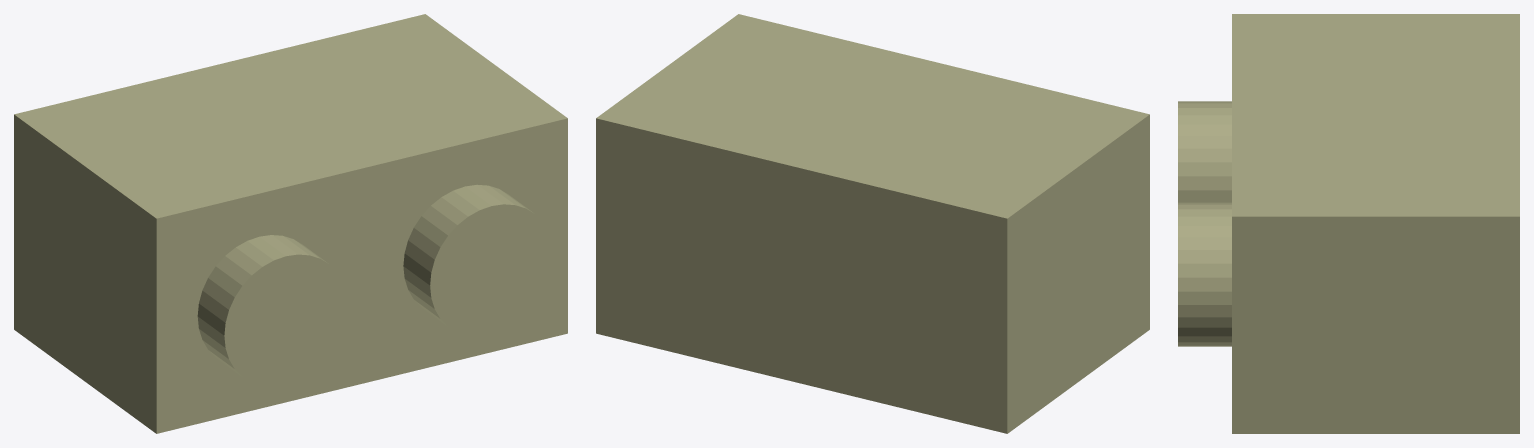
File: brick_0.glb
3 views of the same model, side by side, from view 1: azimuth 30°, elevation 25°; view 2: azimuth 150°, elevation 25°; view 3: azimuth 270°, elevation 25° (orthographic).
Parts seen in each view (by area): view 1: world; view 2: world; view 3: world.
Part boxes in pixels (x1,y1,x2,y2): world: [14, 14, 567, 433]; world: [596, 14, 1149, 433]; world: [1178, 14, 1519, 433].
Size of the model in its own units: 16 by 8 by 11.4.
